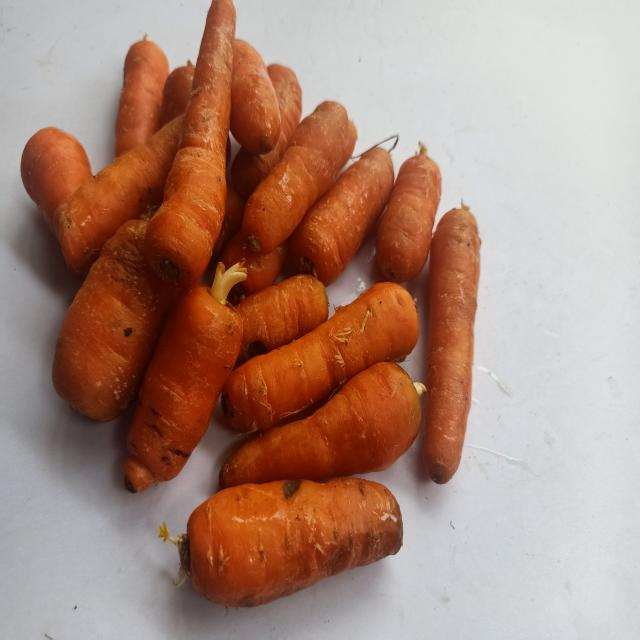Carrot: (222, 282, 419, 432), (187, 478, 403, 608), (144, 0, 236, 287), (51, 219, 179, 421), (219, 362, 422, 489), (124, 283, 243, 492), (52, 114, 184, 272), (242, 100, 357, 253), (424, 204, 482, 484), (290, 146, 395, 286), (234, 274, 329, 366), (376, 152, 442, 282), (230, 38, 281, 153)
